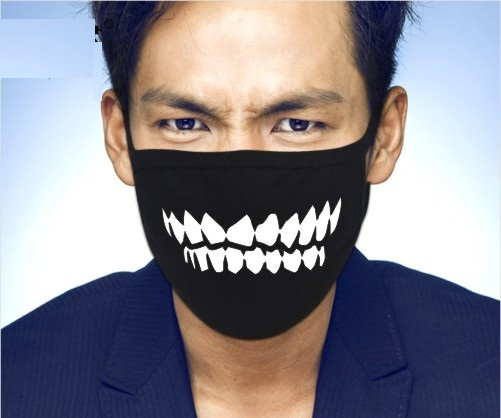face_mask: (125, 0, 371, 295)
